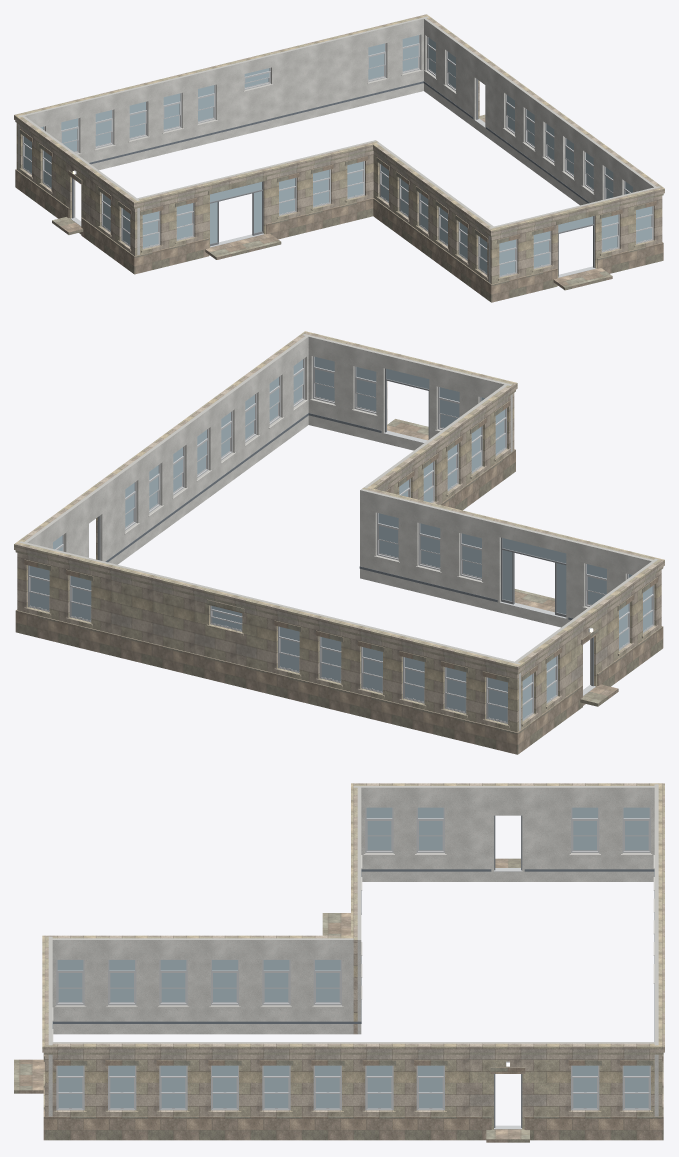
Rendered from shell_g.glb.
3 renders of one model, top to bottom at view 1: azimuth 30°, elevation 25°; view 2: azimuth 150°, elevation 25°; view 3: azimuth 270°, elevation 25°, orthographic. The views are drawn at different scales.
Visible parts, largest first — view 1: shell_g_plaster, shell_g_stone, shell_g_stone_d, shell_g_glass, shell_g_alu, shell_g_vinyl, shell_g_alu_d; view 2: shell_g_plaster, shell_g_stone, shell_g_stone_d, shell_g_glass, shell_g_alu, shell_g_vinyl, shell_g_alu_d; view 3: shell_g_plaster, shell_g_stone, shell_g_stone_d, shell_g_glass, shell_g_alu, shell_g_vinyl, shell_g_counter.
Boxes of the visible parts, x1,y1,x2,y2 form: shell_g_plaster: (18,16,660,282); shell_g_stone: (14,14,664,285); shell_g_stone_d: (15,114,663,302); shell_g_glass: (24,35,652,275); shell_g_alu: (22,35,653,277); shell_g_vinyl: (89,81,589,203); shell_g_alu_d: (72,79,594,276); shell_g_plaster: (19,334,658,730); shell_g_stone: (14,331,664,732); shell_g_stone_d: (15,390,663,754); shell_g_glass: (29,357,652,721); shell_g_alu: (28,356,654,723); shell_g_vinyl: (105,413,573,619); shell_g_alu_d: (97,368,593,686); shell_g_plaster: (48,784,658,1116); shell_g_stone: (42,783,664,1129); shell_g_stone_d: (14,858,663,1142); shell_g_glass: (57,807,649,1108); shell_g_alu: (56,807,650,1129); shell_g_vinyl: (52,869,654,1041); shell_g_counter: (52,854,654,1041).
Size of the model in its own units: 25.8 by 4.05 by 25.3.
11 materials, 3 textured.
